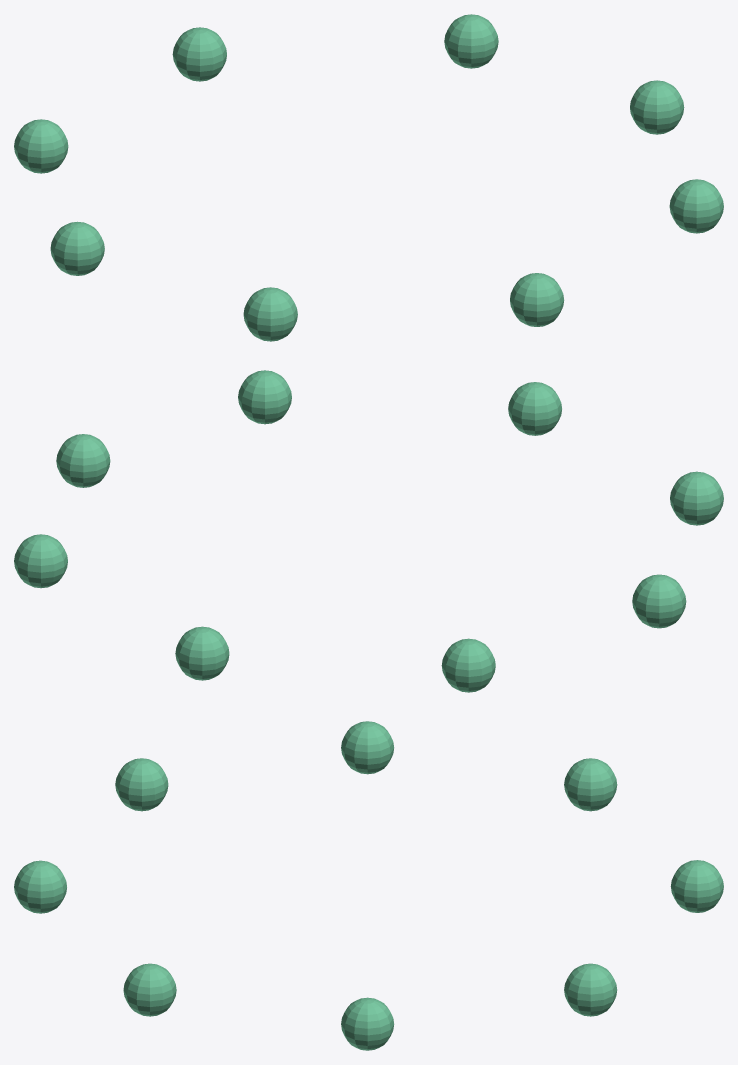
Rendered from meditlargeorbs.dae.
3 renders of one model, top to bottom at view 1: azimuth 30°, elevation 25°; view 2: azimuth 150°, elevation 25°; view 3: azimuth 270°, elevation 25°, orthographic. The views are drawn at different scales.
Visible parts, largest first — view 1: Sphere_022, Sphere_019, Sphere_021, Sphere_023, Sphere_017, Sphere_020, Sphere_018, Sphere_016; view 2: Sphere_017, Sphere_016, Sphere_018, Sphere_021, Sphere_023, Sphere_019, Sphere_020, Sphere_022; view 3: Sphere_023, Sphere_018, Sphere_020, Sphere_022, Sphere_019, Sphere_016, Sphere_017, Sphere_021.
Boxes of the visible parts, x1,y1,x2,y2 form: Sphere_022: (243,287,297,341); Sphere_019: (510,273,564,326); Sphere_021: (14,119,68,173); Sphere_023: (669,179,723,233); Sphere_017: (50,221,104,275); Sphere_020: (444,14,498,68); Sphere_018: (172,27,226,81); Sphere_016: (630,80,684,134); Sphere_017: (632,574,686,628); Sphere_016: (56,434,110,487); Sphere_018: (175,626,229,680); Sphere_021: (441,638,495,692); Sphere_023: (238,370,291,424); Sphere_019: (508,382,561,435); Sphere_020: (14,534,67,588); Sphere_022: (670,471,723,525); Sphere_023: (123,963,176,1016); Sphere_018: (670,860,723,912); Sphere_020: (564,963,617,1016); Sphere_022: (115,758,168,811); Sphere_019: (14,860,66,913); Sphere_016: (341,997,394,1050); Sphere_017: (341,721,394,774); Sphere_021: (564,758,617,811).
Bounding box in the file's own units: 107 × 107 × 8.05.
